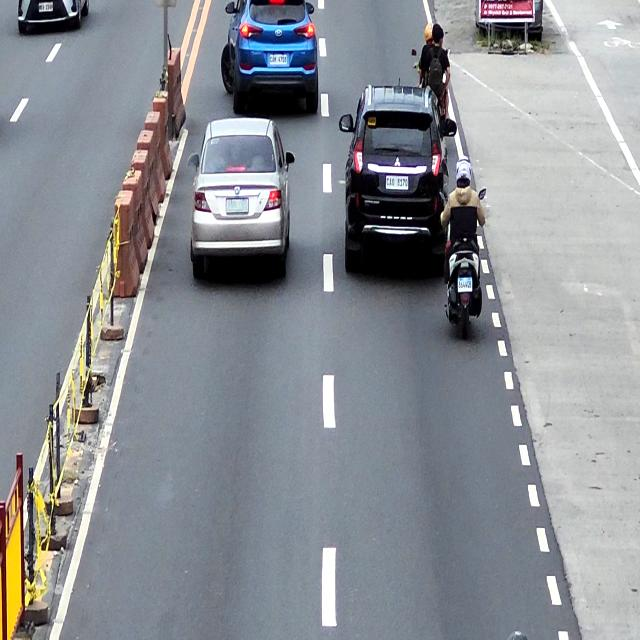Car: (340, 85, 458, 281), (188, 118, 296, 281), (221, 0, 320, 117)
License-Plate: (386, 174, 408, 190), (226, 198, 249, 213), (268, 54, 288, 66), (458, 279, 472, 292)
Motorcycle: (439, 189, 487, 339)
